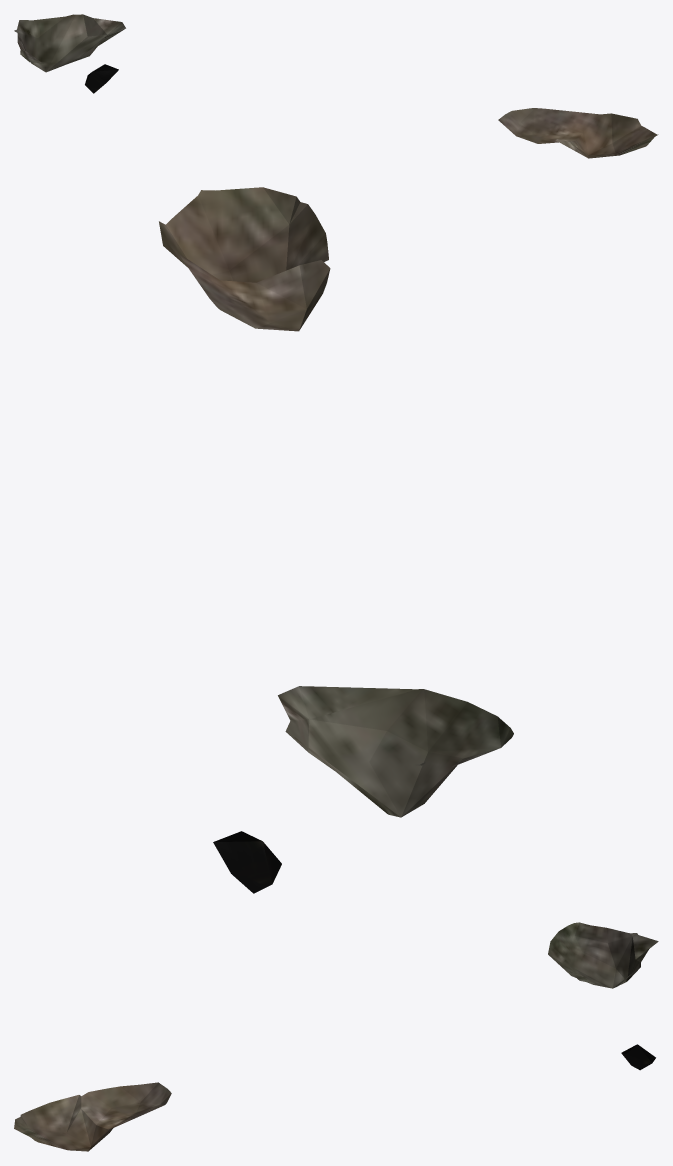
3 renders of one model, top to bottom at view 1: azimuth 30°, elevation 25°; view 2: azimuth 150°, elevation 25°; view 3: azimuth 270°, elevation 25°, orthographic. The views are drawn at different scales.
Bounding box in the file's own units: 3.91 × 0.7536 × 4.89.
1 material, 1 textured.
